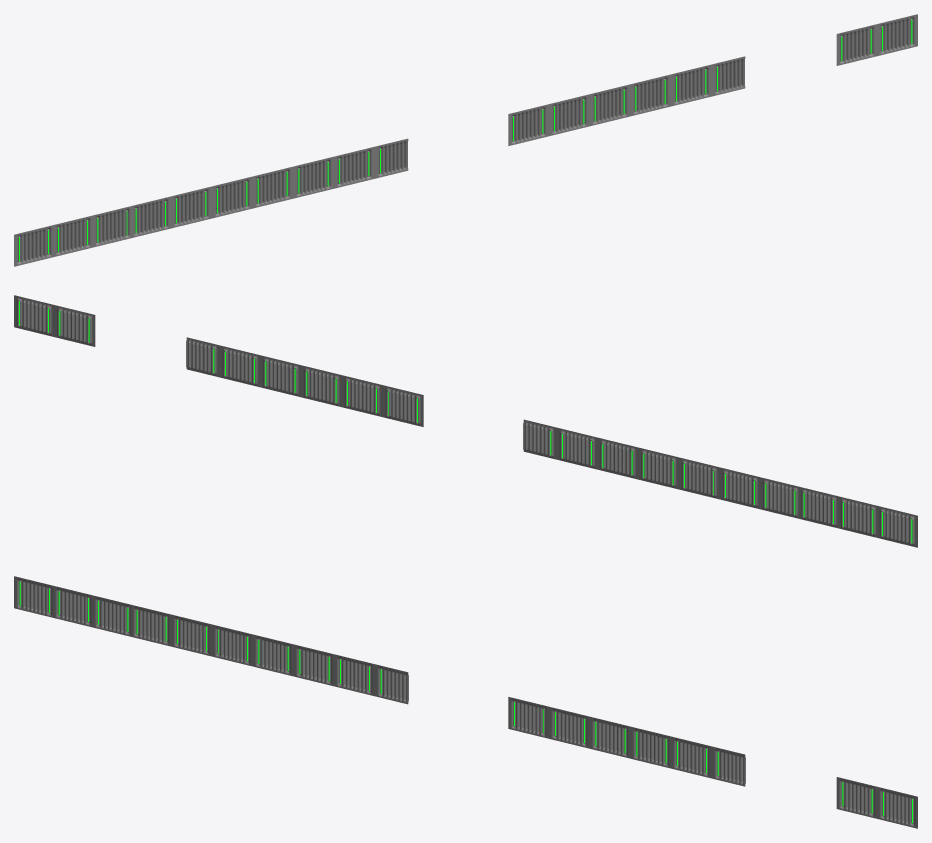
Rendered from LevelLayout01PartBWallTiles2.fbx.
The picture shows the model from 3 angles, top to bottom: view 1: azimuth 30°, elevation 25°; view 2: azimuth 150°, elevation 25°; view 3: azimuth 330°, elevation 25°; orthographic projection.
Parts seen in each view (by area): view 1: Object361, Object347, Object360, Object366, Object349, Object343, Object353, Object357, Object358, Object359, Object363, Object345 (+6 smaller); view 2: Object347, Object355, Object361, Object360, Object349, Object366, Object343, Object353, Object357, Object358, Object363, Object345 (+6 smaller); view 3: Object361, Object349, Object355, Object360, Object343, Object353, Object358, Object359, Object363, Object345, Object347, Object357 (+6 smaller).
Part boxes in pixels (x1,y1,x2,y2): Object361: (252,166,293,208); Object347: (630,74,671,116); Object360: (293,156,334,198); Object366: (130,196,171,238); Object349: (589,84,630,126); Object343: (549,94,589,136); Object353: (671,64,711,106); Object357: (877,14,917,56); Object358: (212,176,252,218); Object359: (171,186,211,228); Object363: (334,146,374,188); Object345: (508,104,548,145); Object347: (260,355,301,397); Object355: (54,305,95,346); Object361: (638,447,679,489); Object360: (597,437,638,479); Object349: (301,365,342,407); Object366: (760,477,801,518); Object343: (342,375,382,417); Object353: (220,345,260,387); Object357: (14,295,54,337); Object358: (679,457,719,499); Object363: (557,427,597,469); Object345: (383,385,423,426); Object361: (252,634,293,676); Object349: (589,716,630,758); Object355: (836,777,877,818); Object360: (293,644,334,686); Object343: (549,706,589,748); Object353: (671,736,711,778); Object358: (212,624,252,666); Object359: (171,614,211,656); Object363: (334,654,374,696); Object345: (508,697,548,738); Object347: (630,726,670,768); Object357: (877,787,917,828).
Bounding box in the file's own units: 20721 × 704 × 45.75.
